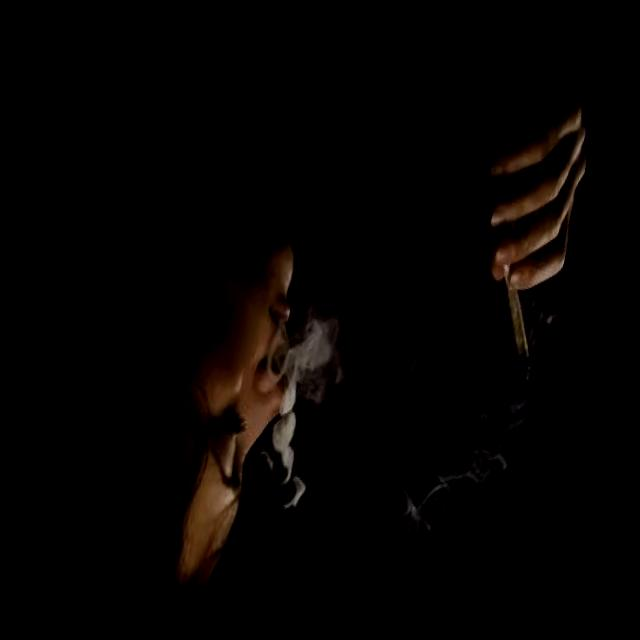smoke: (474, 259, 556, 386)
